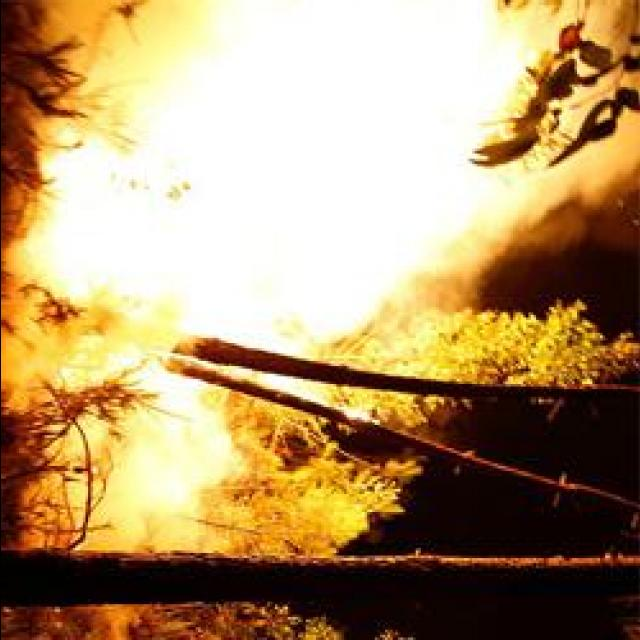fire: (49, 152, 371, 336), (210, 7, 474, 226)
smoke: (483, 160, 635, 260)
